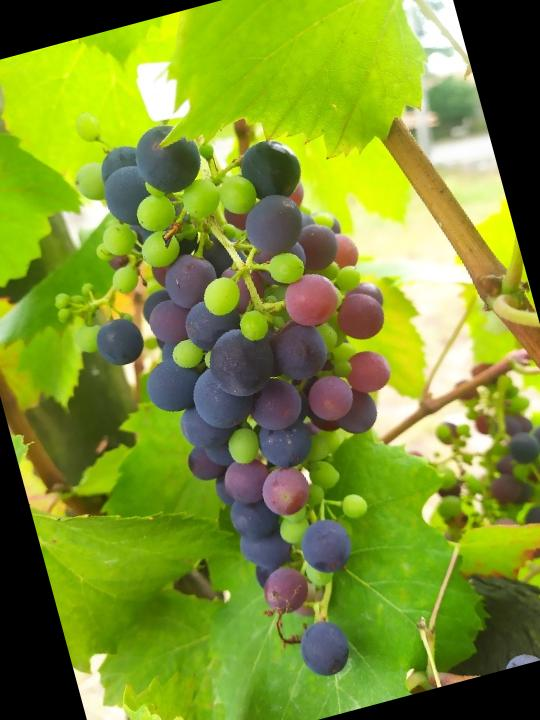grape: (9, 53, 475, 720)
